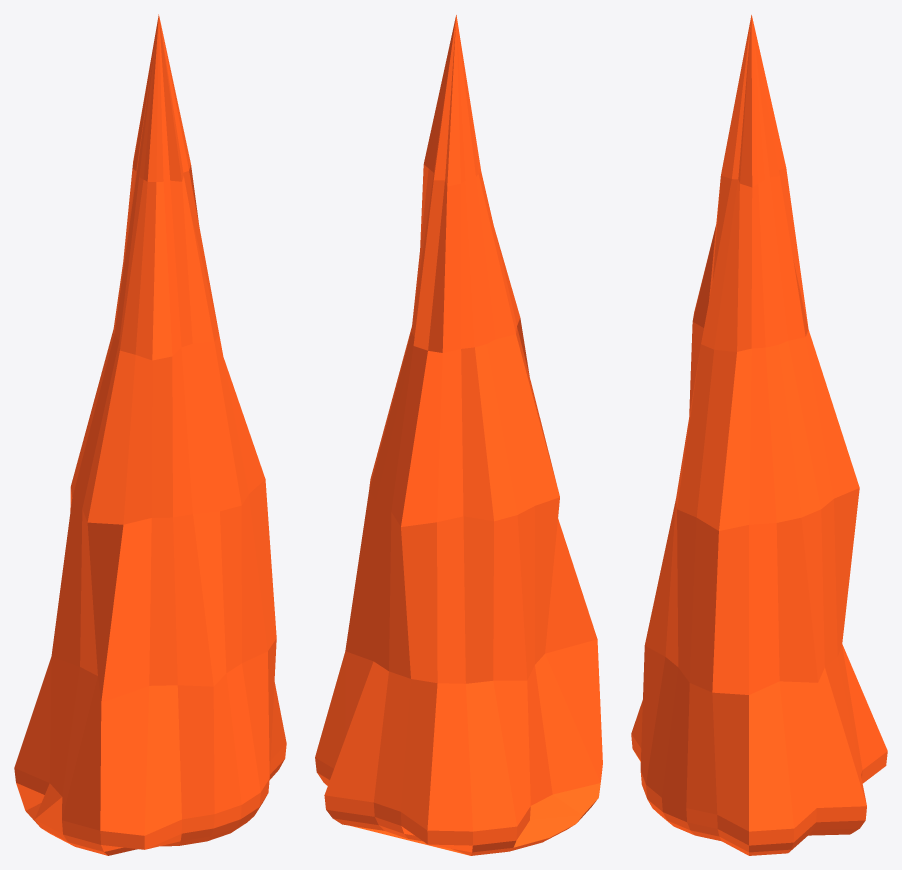
File: spike6.fbx
3 renders of one model, left to right at view 1: azimuth 30°, elevation 25°; view 2: azimuth 150°, elevation 25°; view 3: azimuth 270°, elevation 25°, orthographic.
Parts seen in each view (by area): view 1: pCone7; view 2: pCone7; view 3: pCone7.
Part boxes in pixels (box(x1,y1,x2,y2)): pCone7: box(14, 14, 286, 855); pCone7: box(315, 15, 602, 855); pCone7: box(631, 15, 887, 855).
Size of the model in its own units: 50.94 by 153 by 45.09.
